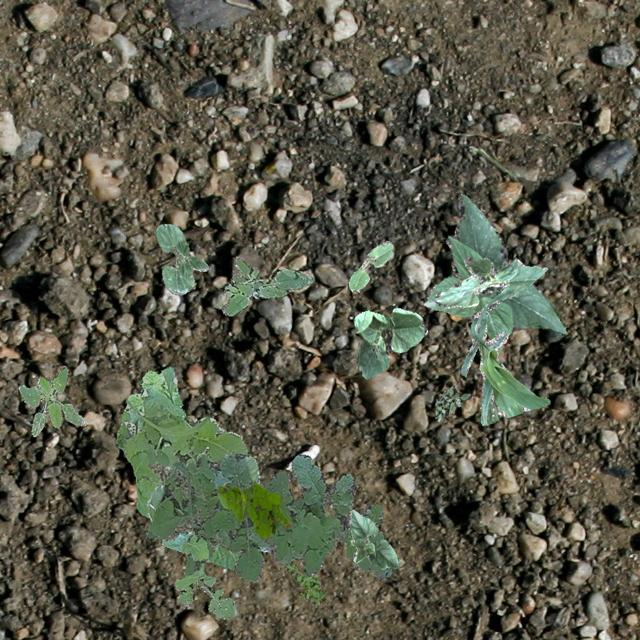crop: (422, 192, 566, 352), (146, 452, 270, 568), (459, 288, 548, 424), (434, 256, 546, 306), (352, 306, 427, 378), (154, 222, 208, 294), (346, 508, 398, 568), (348, 240, 392, 290)
weed: (144, 452, 390, 580), (115, 366, 246, 516), (220, 256, 312, 314), (174, 534, 232, 620), (18, 366, 84, 436), (217, 482, 290, 538), (284, 560, 326, 604), (434, 384, 471, 420)
